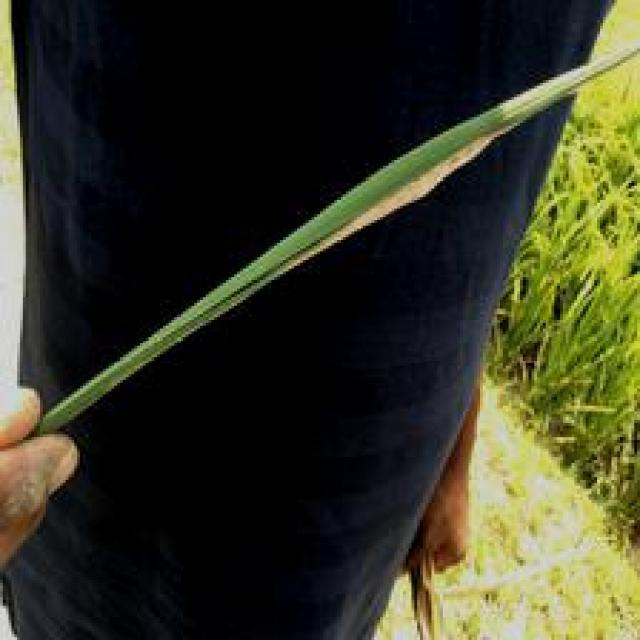Rice_Bacterial_Blight: (322, 122, 528, 232)
